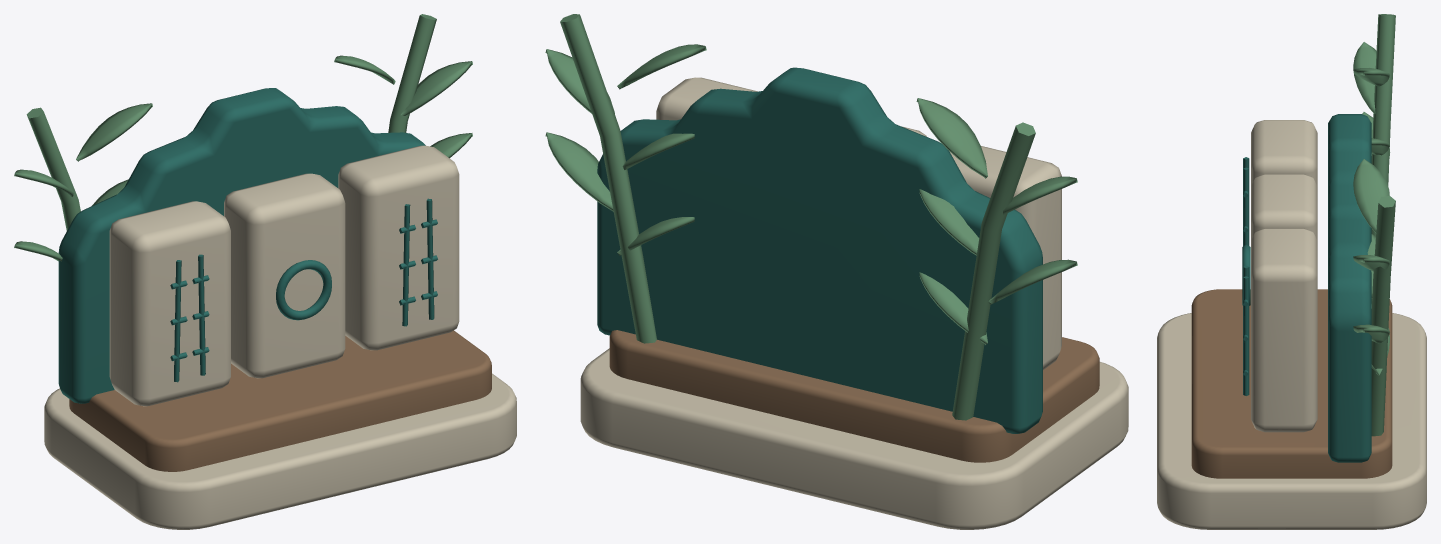
Rendered from mahjong_garden_shrine_atelier.glb.
The picture shows the model from 3 angles, left to right: view 1: azimuth 30°, elevation 25°; view 2: azimuth 150°, elevation 25°; view 3: azimuth 270°, elevation 25°; orthographic projection. The views are drawn at different scales.
Parts seen in each view (by area): view 1: mahjong_garden_shrine_atelier__Painted_mahjong_garden_shrine, mahjong_garden_shrine_atelier__TaggedPainted_mahjong_garden_; view 2: mahjong_garden_shrine_atelier__Painted_mahjong_garden_shrine, mahjong_garden_shrine_atelier__TaggedPainted_mahjong_garden_; view 3: mahjong_garden_shrine_atelier__Painted_mahjong_garden_shrine, mahjong_garden_shrine_atelier__TaggedPainted_mahjong_garden_.
Boxes of the visible parts, x1,y1,x2,y2 form: mahjong_garden_shrine_atelier__Painted_mahjong_garden_shrine: (44,88,516,529); mahjong_garden_shrine_atelier__TaggedPainted_mahjong_garden_: (14,14,491,471); mahjong_garden_shrine_atelier__Painted_mahjong_garden_shrine: (580,67,1128,529); mahjong_garden_shrine_atelier__TaggedPainted_mahjong_garden_: (545,14,1099,462); mahjong_garden_shrine_atelier__Painted_mahjong_garden_shrine: (1157,114,1426,529); mahjong_garden_shrine_atelier__TaggedPainted_mahjong_garden_: (1191,14,1395,478).
Size of the model in its own units: 2.01 by 1.45 by 1.05.
